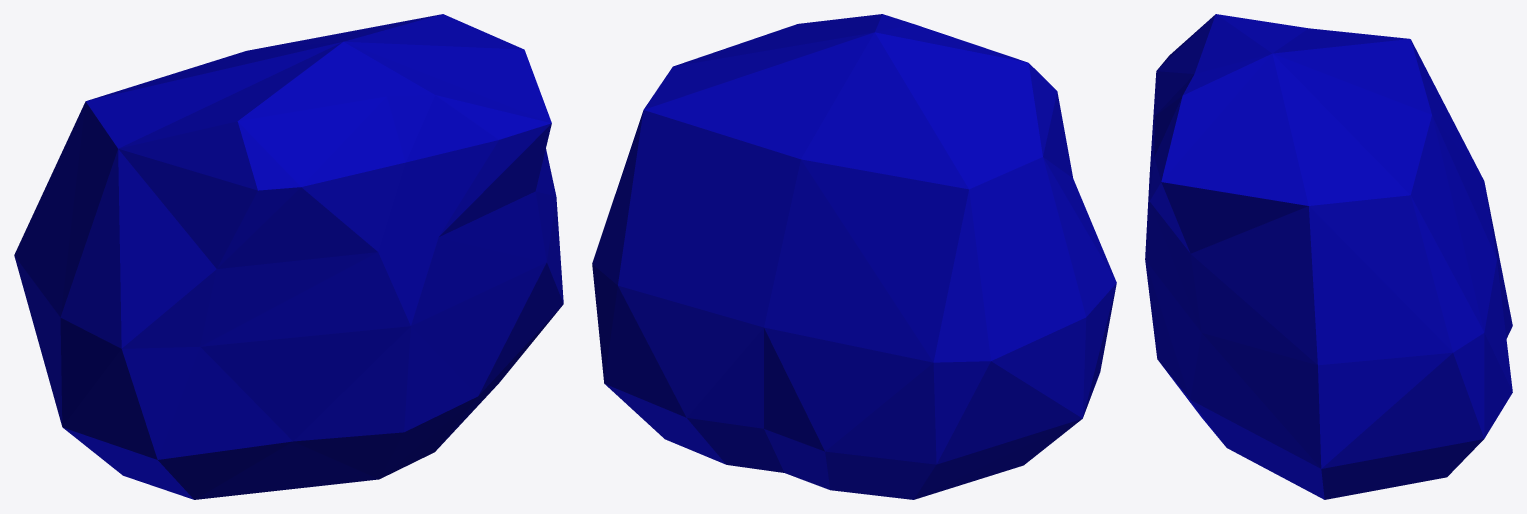
Rendered from Hips_mesh.dae.
3 views of the same model, side by side, from view 1: azimuth 30°, elevation 25°; view 2: azimuth 150°, elevation 25°; view 3: azimuth 270°, elevation 25° (orthographic). The views are drawn at different scales.
Visible parts, largest first — view 1: Hips; view 2: Hips; view 3: Hips.
Part boxes in pixels (box(x1,y1,x2,y2)): Hips: box(14, 14, 563, 499); Hips: box(592, 14, 1116, 499); Hips: box(1145, 14, 1512, 499).
Size of the model in its own units: 0.3228 by 0.2747 by 0.2271.
